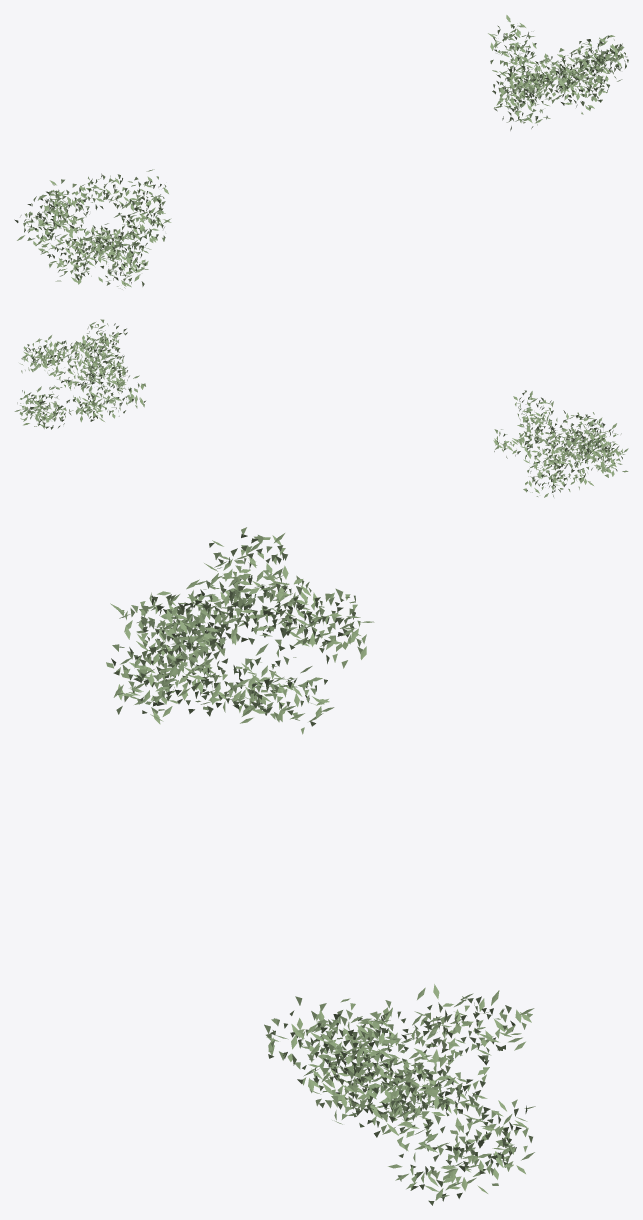
Rendered from xiyuan-vegetation-22-medium.glb.
3 views of the same model, one above another, from view 1: azimuth 30°, elevation 25°; view 2: azimuth 150°, elevation 25°; view 3: azimuth 270°, elevation 25° (orthographic). The views are drawn at different scales.
Visible parts, largest first — view 1: vegetation broadleaf leaves.004; view 2: vegetation broadleaf leaves.004; view 3: vegetation broadleaf leaves.004.
Part boxes in pixels (x1=…): vegetation broadleaf leaves.004: x1=14, y1=15, x2=628, y2=289; vegetation broadleaf leaves.004: x1=14, y1=319, x2=628, y2=497; vegetation broadleaf leaves.004: x1=106, y1=527, x2=535, y2=1205.
Size of the model in its own units: 36.45 by 5.4 by 12.28.
